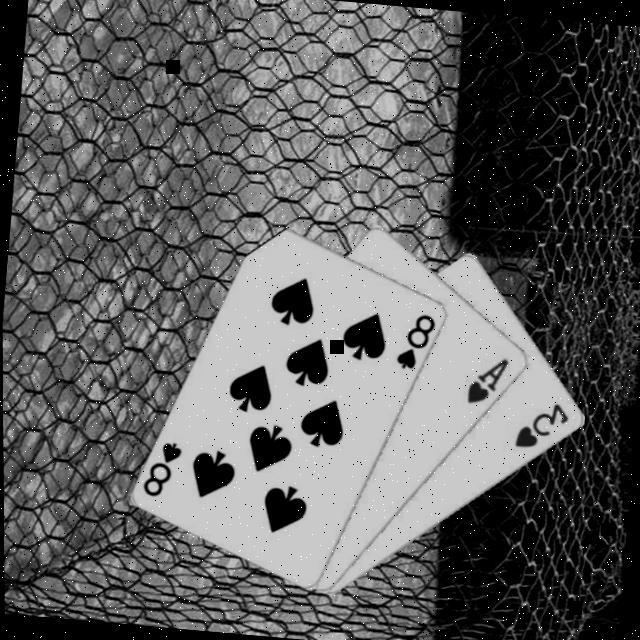3H: (511, 398, 573, 457)
8S: (138, 438, 186, 502), (393, 310, 439, 376)
AH: (462, 352, 512, 412)
